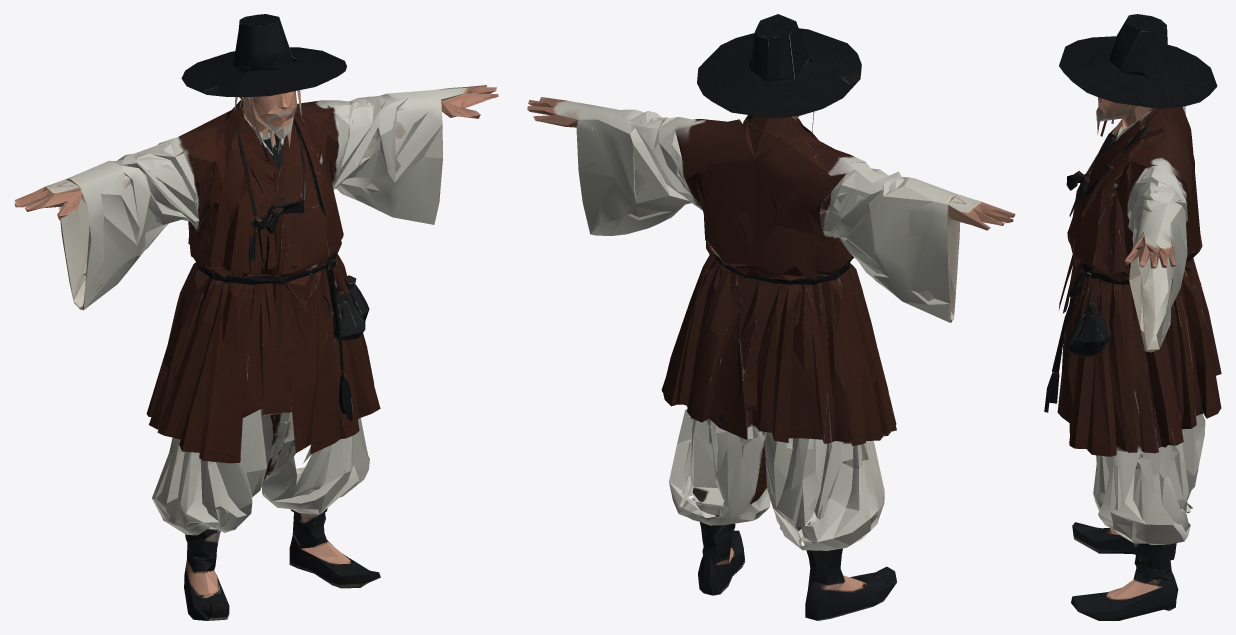
Rendered from H1_merchant_retexture.glb.
The picture shows the model from 3 angles, left to right: view 1: azimuth 30°, elevation 25°; view 2: azimuth 150°, elevation 25°; view 3: azimuth 270°, elevation 25°; orthographic projection. The views are drawn at different scales.
Size of the model in its own units: 1.68 by 1.9 by 0.5451.
1 material, 1 textured.
